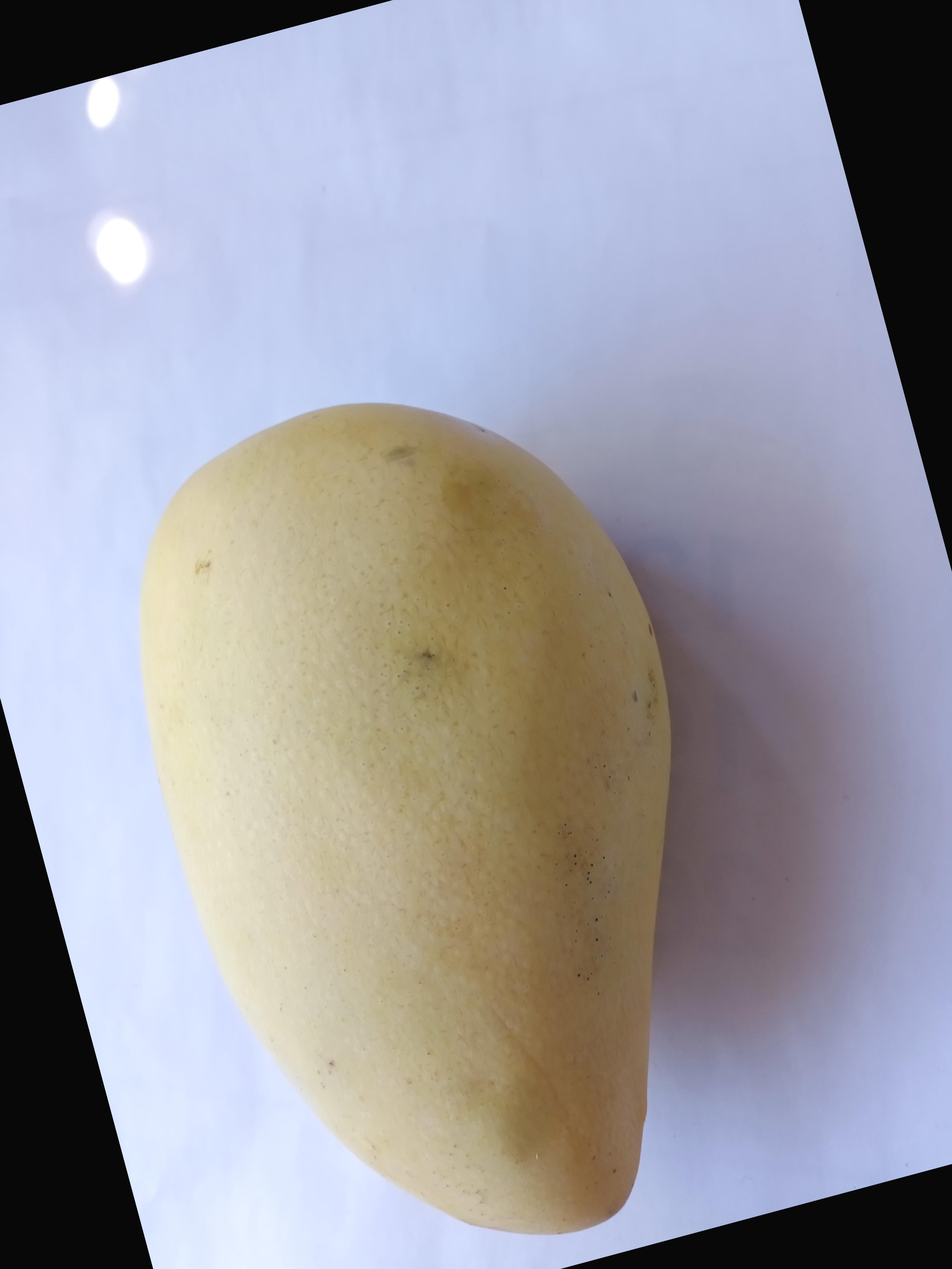Mango Ripe: (0, 467, 638, 1269)
